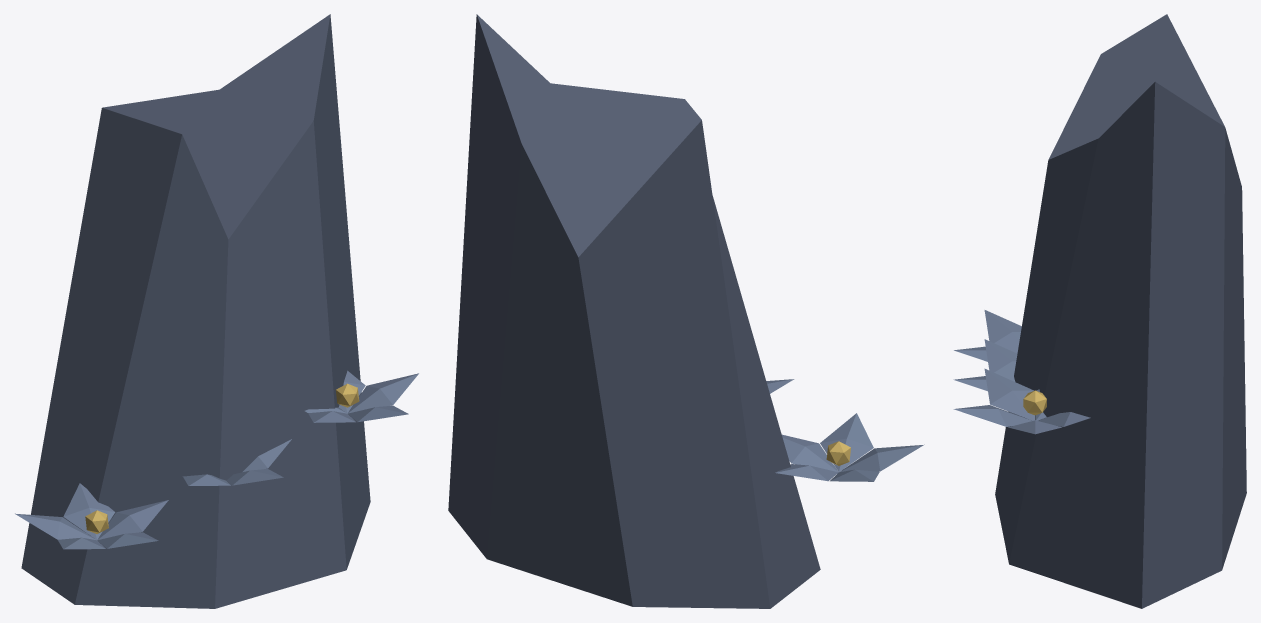
File: map-boundaries-v5__grave_08.glb
The picture shows the model from 3 angles, left to right: view 1: azimuth 30°, elevation 25°; view 2: azimuth 150°, elevation 25°; view 3: azimuth 270°, elevation 25°; orthographic projection. The views are drawn at different scales.
Visible parts, largest first — view 1: grave_08; view 2: grave_08; view 3: grave_08.
Part boxes in pixels (bbox=[...]): grave_08: bbox=[15, 14, 418, 608]; grave_08: bbox=[448, 14, 924, 608]; grave_08: bbox=[953, 14, 1246, 608].
Bounding box in the file's own units: 1.22 × 1.5 × 0.783.
